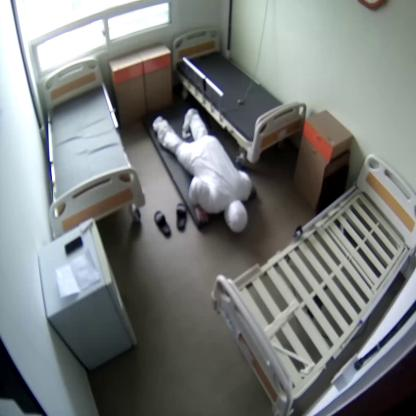Person: (152, 109, 255, 232)
